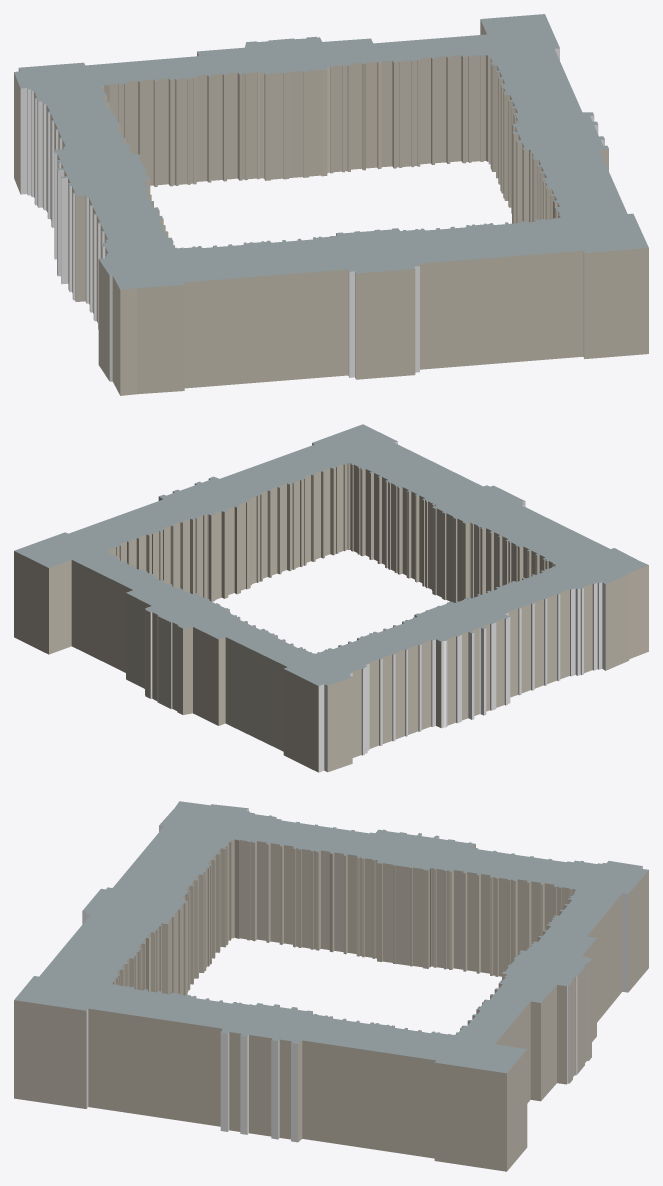
3 views of the same model, one above another, from view 1: azimuth 30°, elevation 25°; view 2: azimuth 150°, elevation 25°; view 3: azimuth 270°, elevation 25° (orthographic). The views are drawn at different scales.
Parts seen in each view (by area): view 1: tuile; view 2: tuile; view 3: tuile.
Part boxes in pixels (x1,y1,x2,y2): tuile: (14, 14, 648, 395); tuile: (14, 424, 648, 772); tuile: (14, 801, 648, 1171).
Bounding box in the file's own units: 215 × 36.23 × 212.
